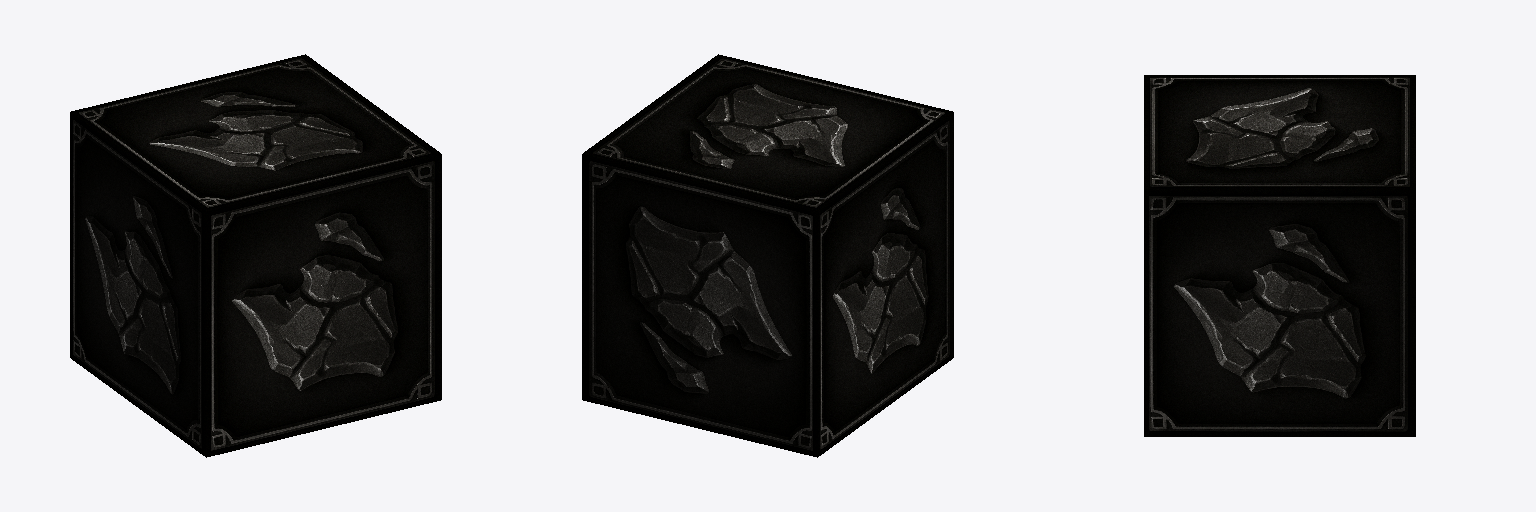
3 views of the same model, side by side, from view 1: azimuth 30°, elevation 25°; view 2: azimuth 150°, elevation 25°; view 3: azimuth 270°, elevation 25° (orthographic).
Parts seen in each view (by area): view 1: Cube; view 2: Cube; view 3: Cube.
Boxes of the visible parts, box(x1,y1,x2,y2) form: Cube: box(70, 54, 441, 457); Cube: box(582, 54, 953, 457); Cube: box(1144, 75, 1415, 436).
Size of the model in its own units: 2 by 2 by 2.
1 materials, 1 textured.